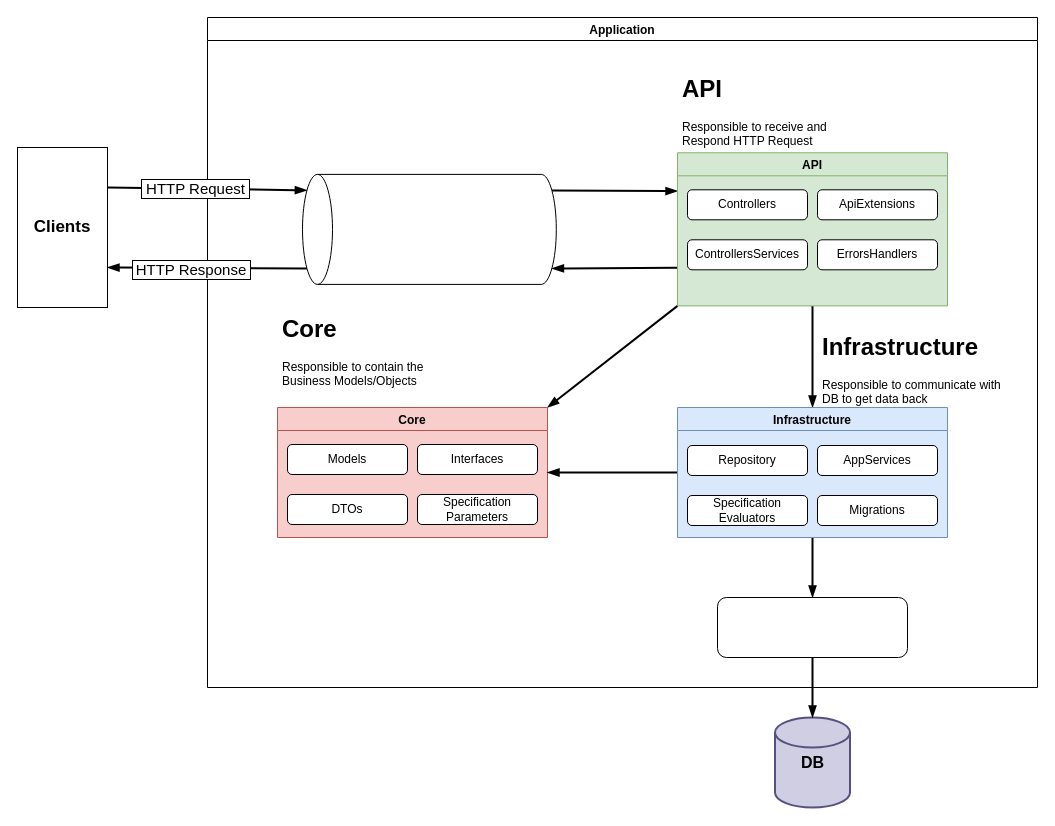
Some shapes in this 1055 by 826 pixel diagram are drawn without their labels. Each missing label, with the centre of its shape:
Entity Framework ORM Object relational mapping, Code First: pixel 812 627
Request Pipeline: pixel 429 228
